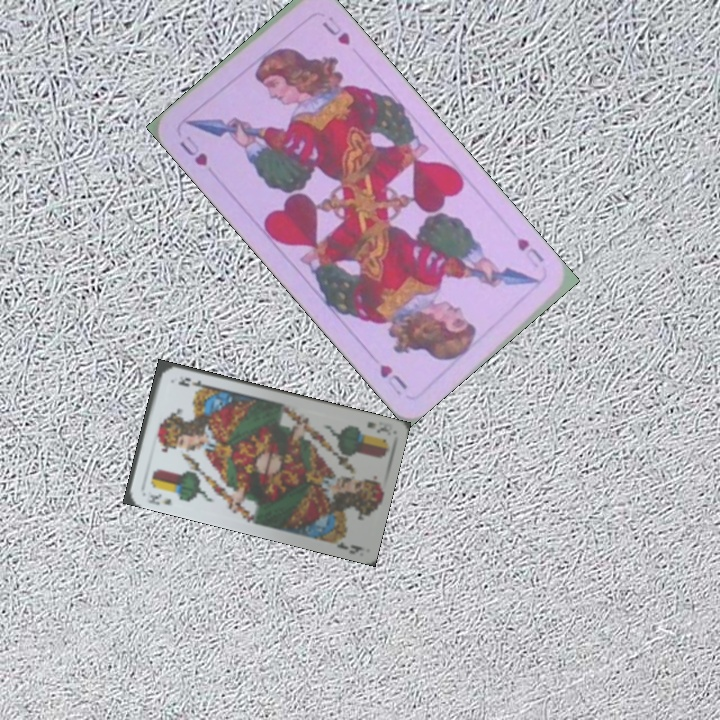EK: (144, 489, 174, 507), (363, 418, 392, 435)
HU: (512, 234, 547, 275), (175, 131, 211, 169)
